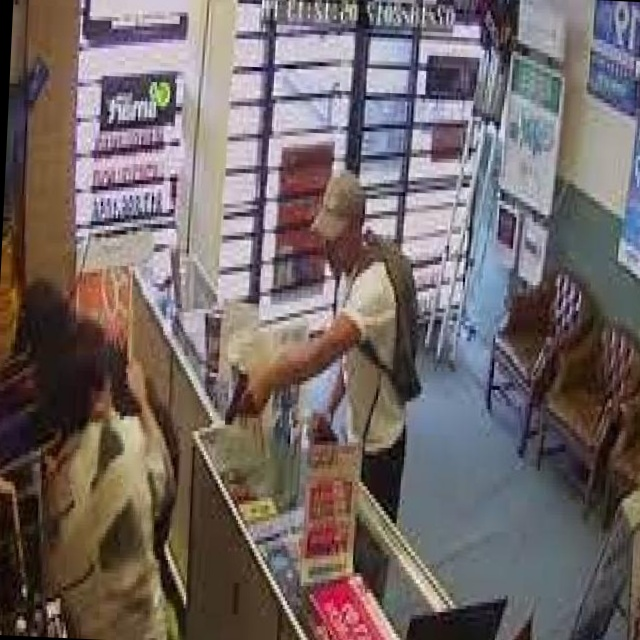gun: (223, 362, 272, 435)
